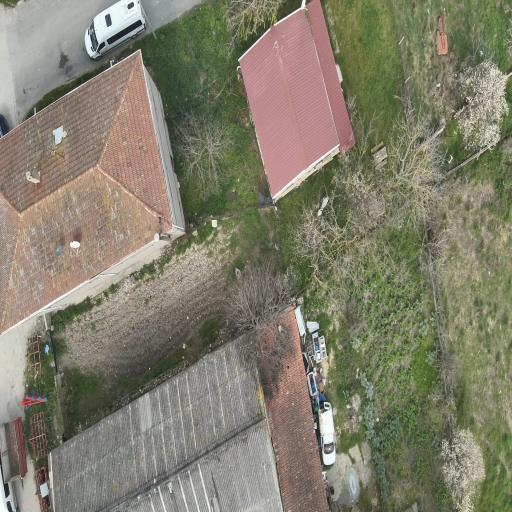car: (85, 0, 145, 60), (319, 402, 335, 465), (0, 461, 18, 511)
